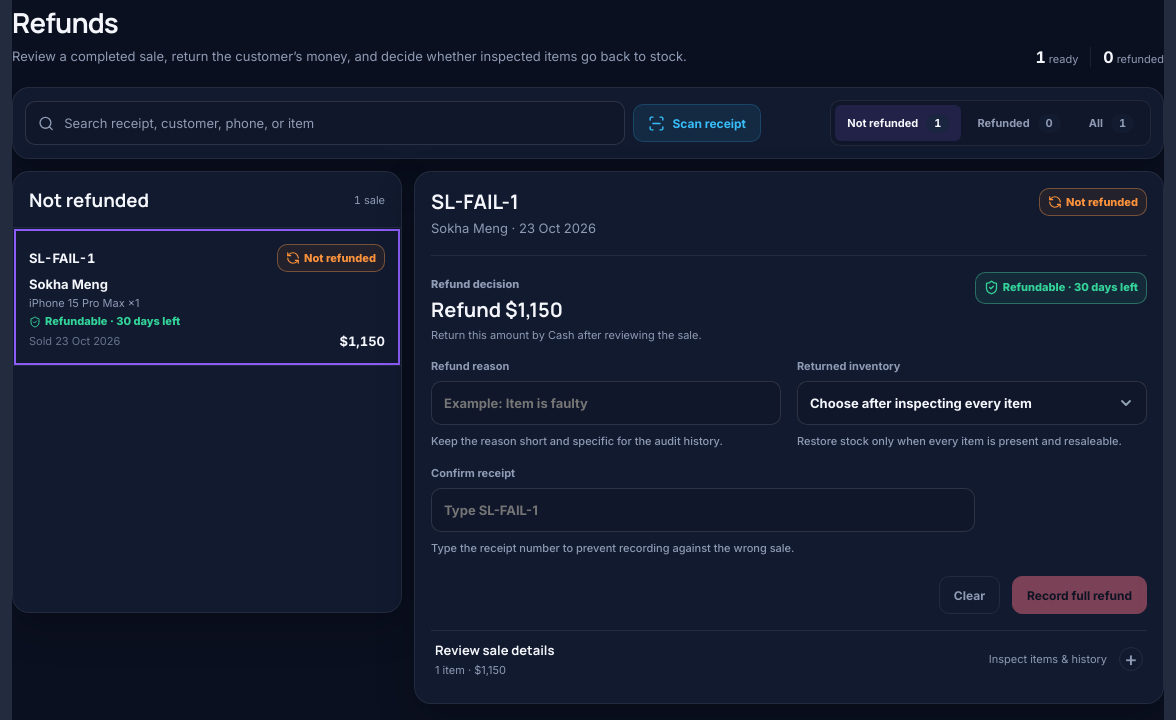
Scenario: RefundsPage feature integration & safeguards › displays error alert on API failure without mutating trade queue or showing false success
The image size is (1176, 720).
Check: the text "SL-FAIL-1" is shown, box [29,250,96,266]
Type "Item broken on delivery" into the field with placeholder "Example: Item is faulty" at (606, 403), box [431,381,781,425]
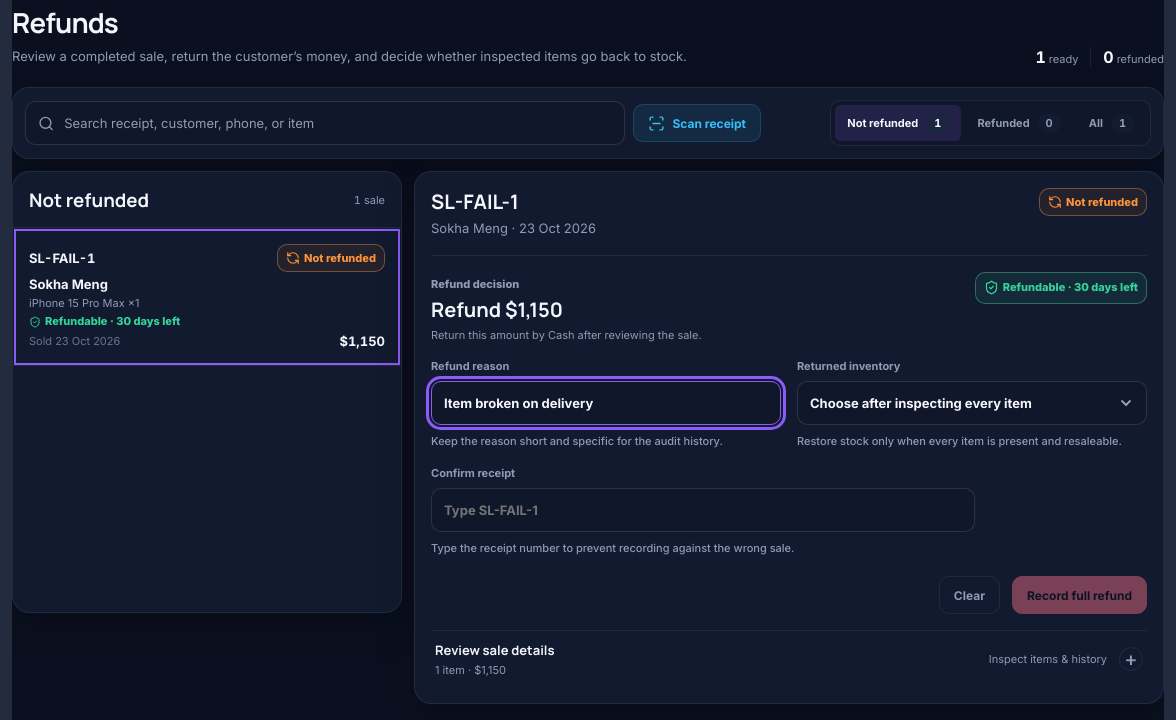
Select "Restore all items to available stock" in the dropdown at (972, 403), box [797,381,1147,425]
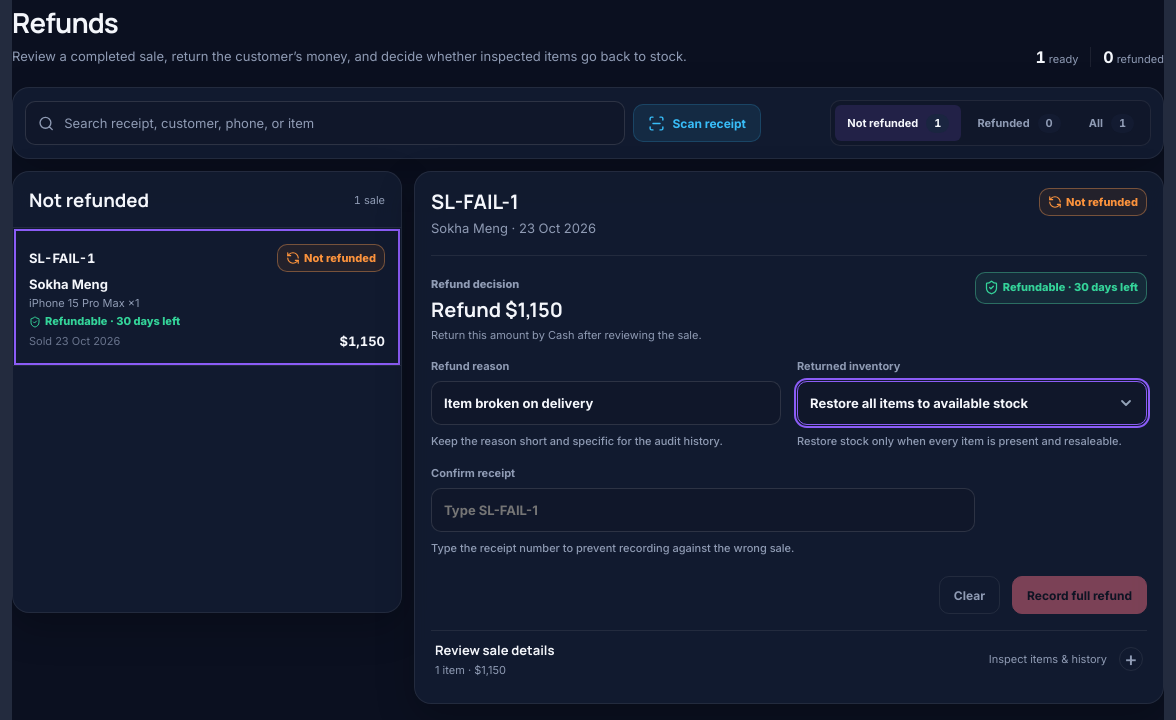
Type "SL-FAIL-1" into the field with placeholder "Type SL-FAIL-1" at (703, 510), box [431,488,975,532]
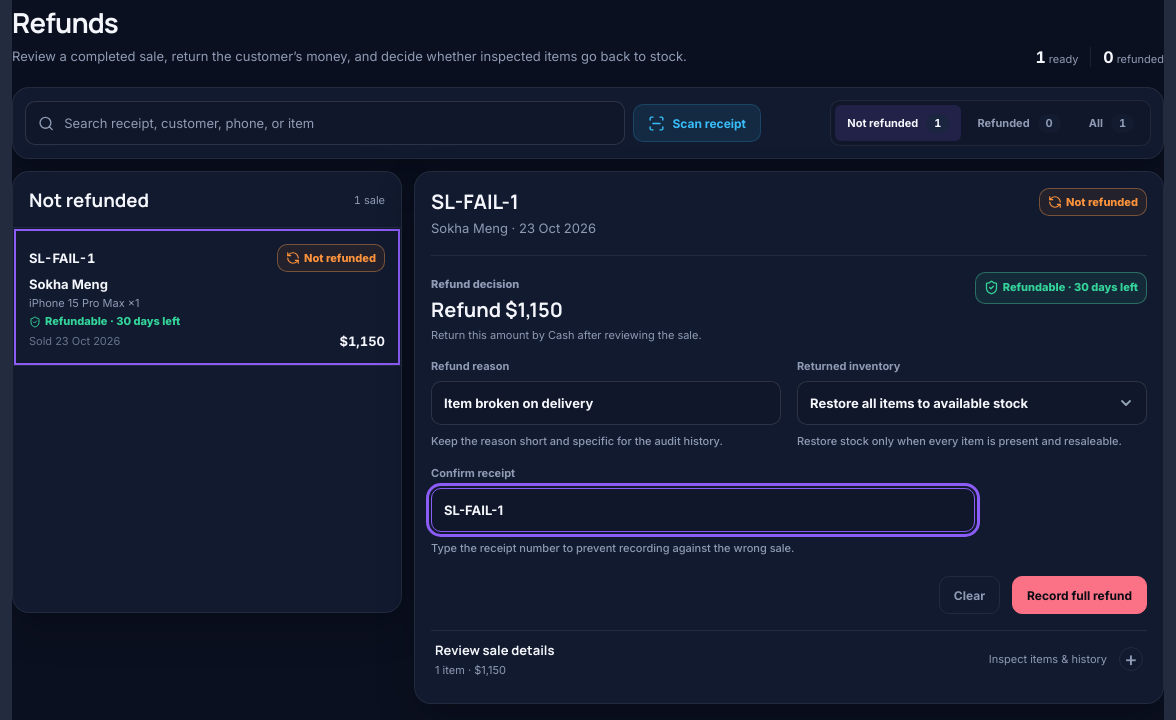
Click the button "Record full refund" at (1080, 595), box [1012,576,1147,614]
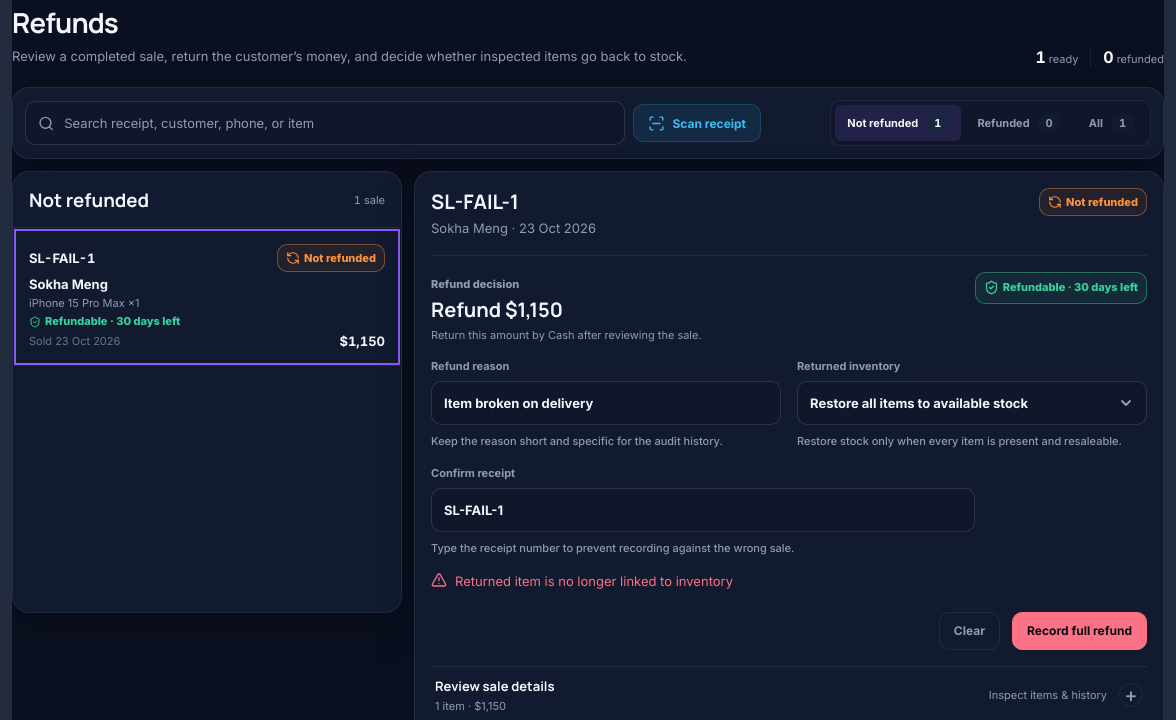
Check: the message reads "Returned item is no longer linked to inventory", box [455,573,733,589]
